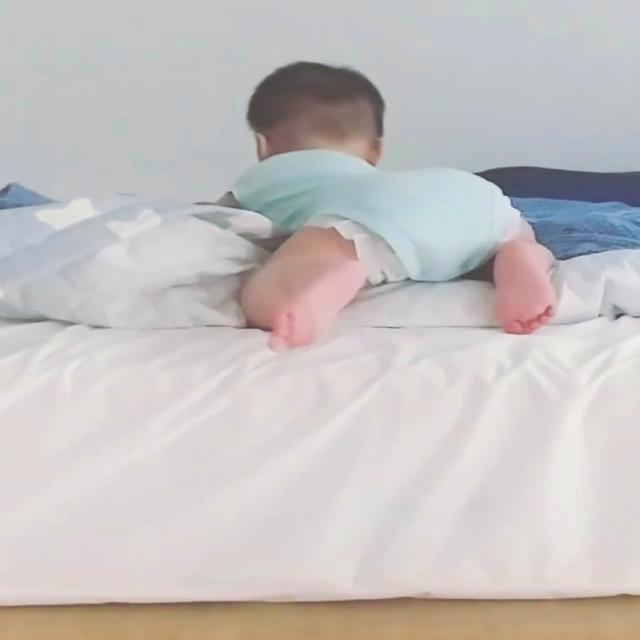child: (228, 66, 558, 351)
